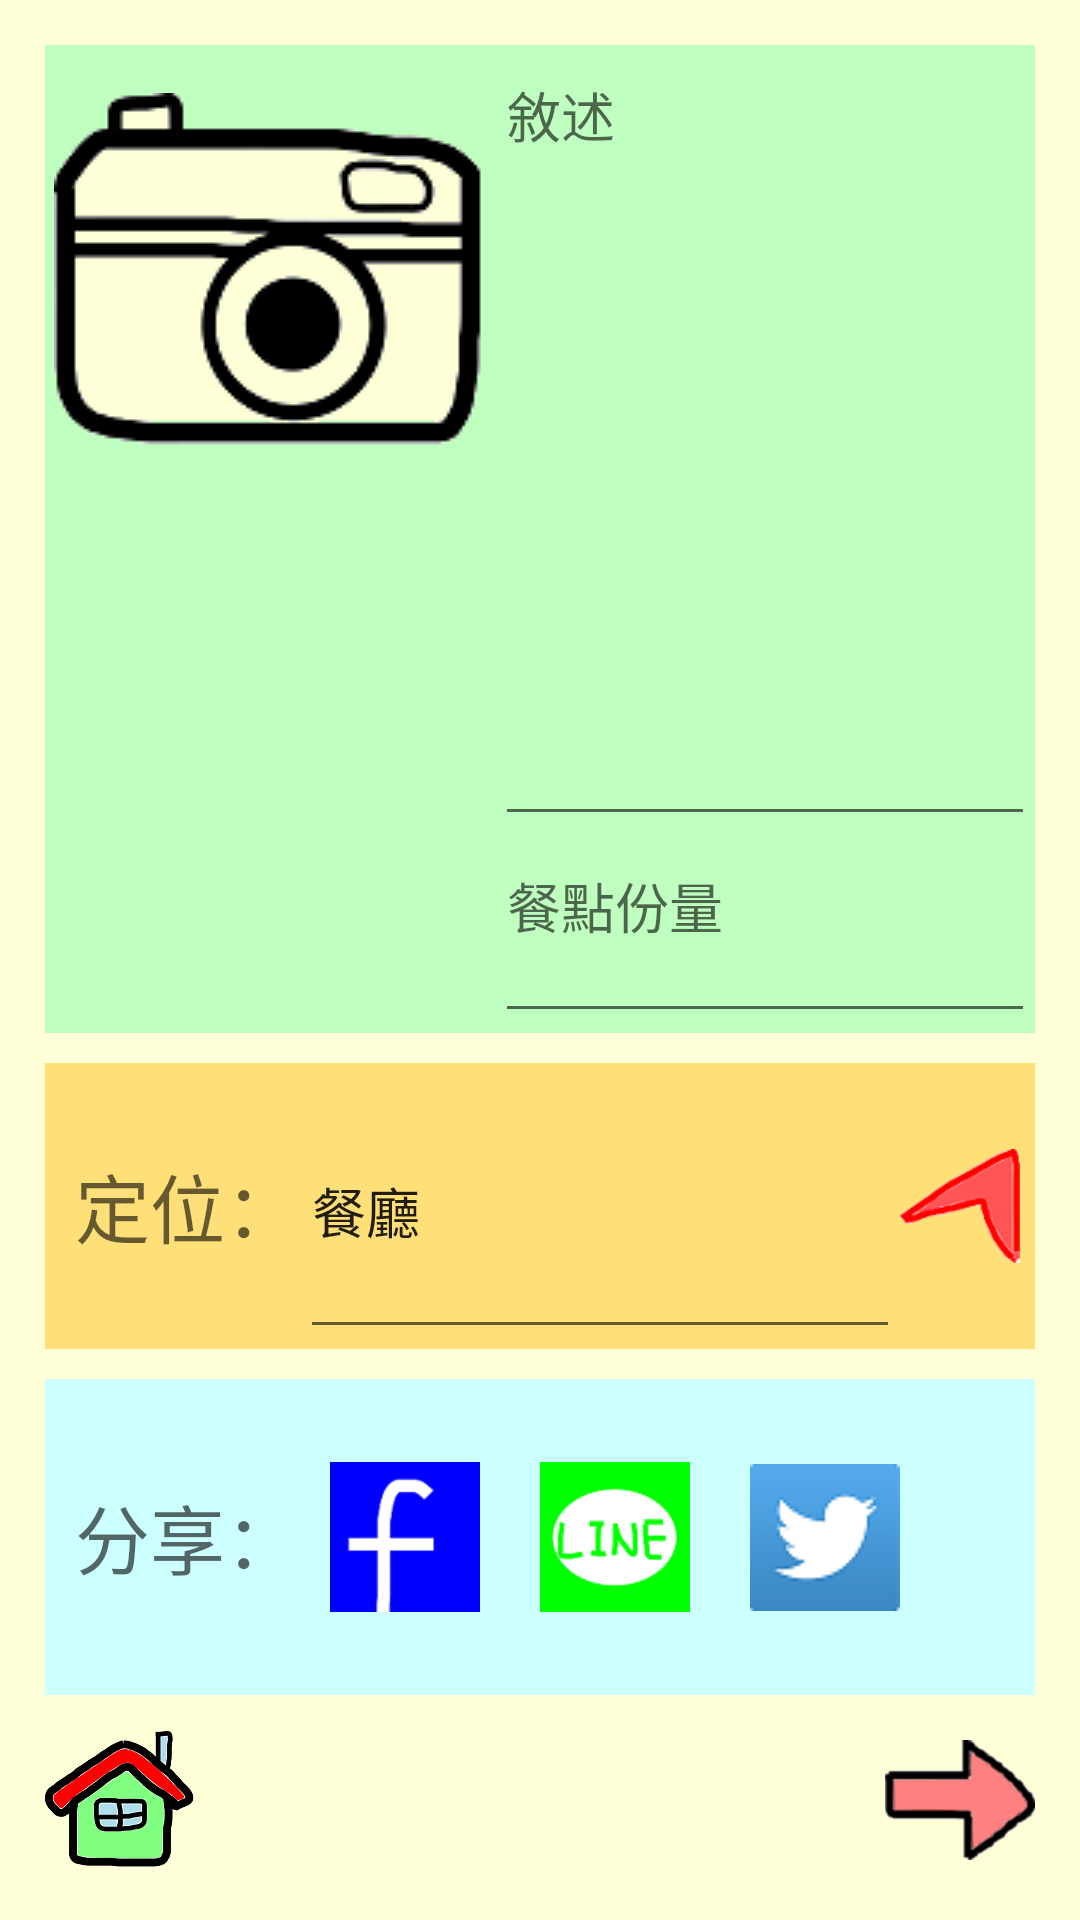

Point at icon controls on the screen. Image size 1080px x 1920px, points as point (x, y).
home: point (119, 1799)
navigation: point (960, 1206)
next: point (960, 1800)
